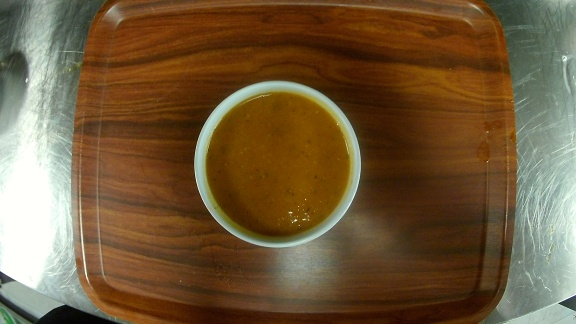ezogelin: (194, 77, 363, 247)
